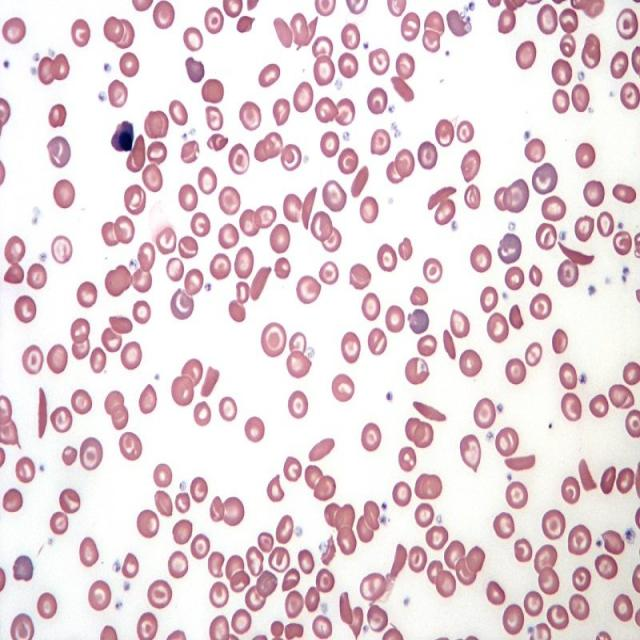RBC: (82, 576, 118, 615), (75, 432, 106, 477), (142, 576, 178, 609), (310, 256, 342, 292), (114, 429, 146, 464), (154, 216, 178, 262), (312, 52, 339, 92), (225, 138, 252, 177), (20, 341, 47, 379), (376, 239, 401, 279), (122, 184, 150, 218), (340, 328, 362, 370), (133, 608, 161, 640), (418, 250, 444, 284), (293, 77, 316, 115), (205, 580, 233, 609)
sickle cell: (242, 260, 276, 302), (558, 240, 599, 274), (407, 397, 448, 428), (296, 184, 320, 232), (388, 72, 417, 109), (347, 163, 373, 204), (389, 538, 412, 584), (423, 182, 457, 212), (34, 384, 51, 443), (502, 449, 536, 473)
